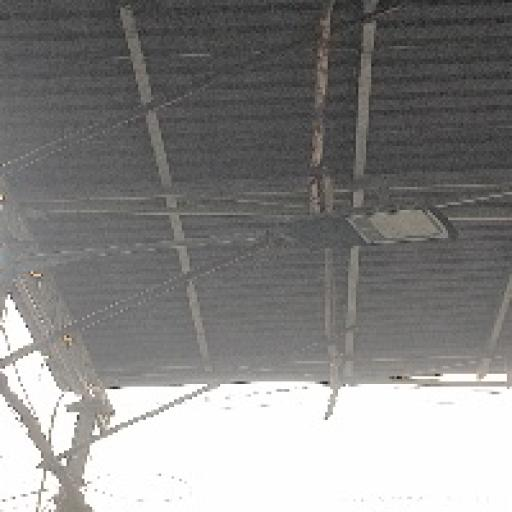Not Working: (259, 202, 458, 260)
